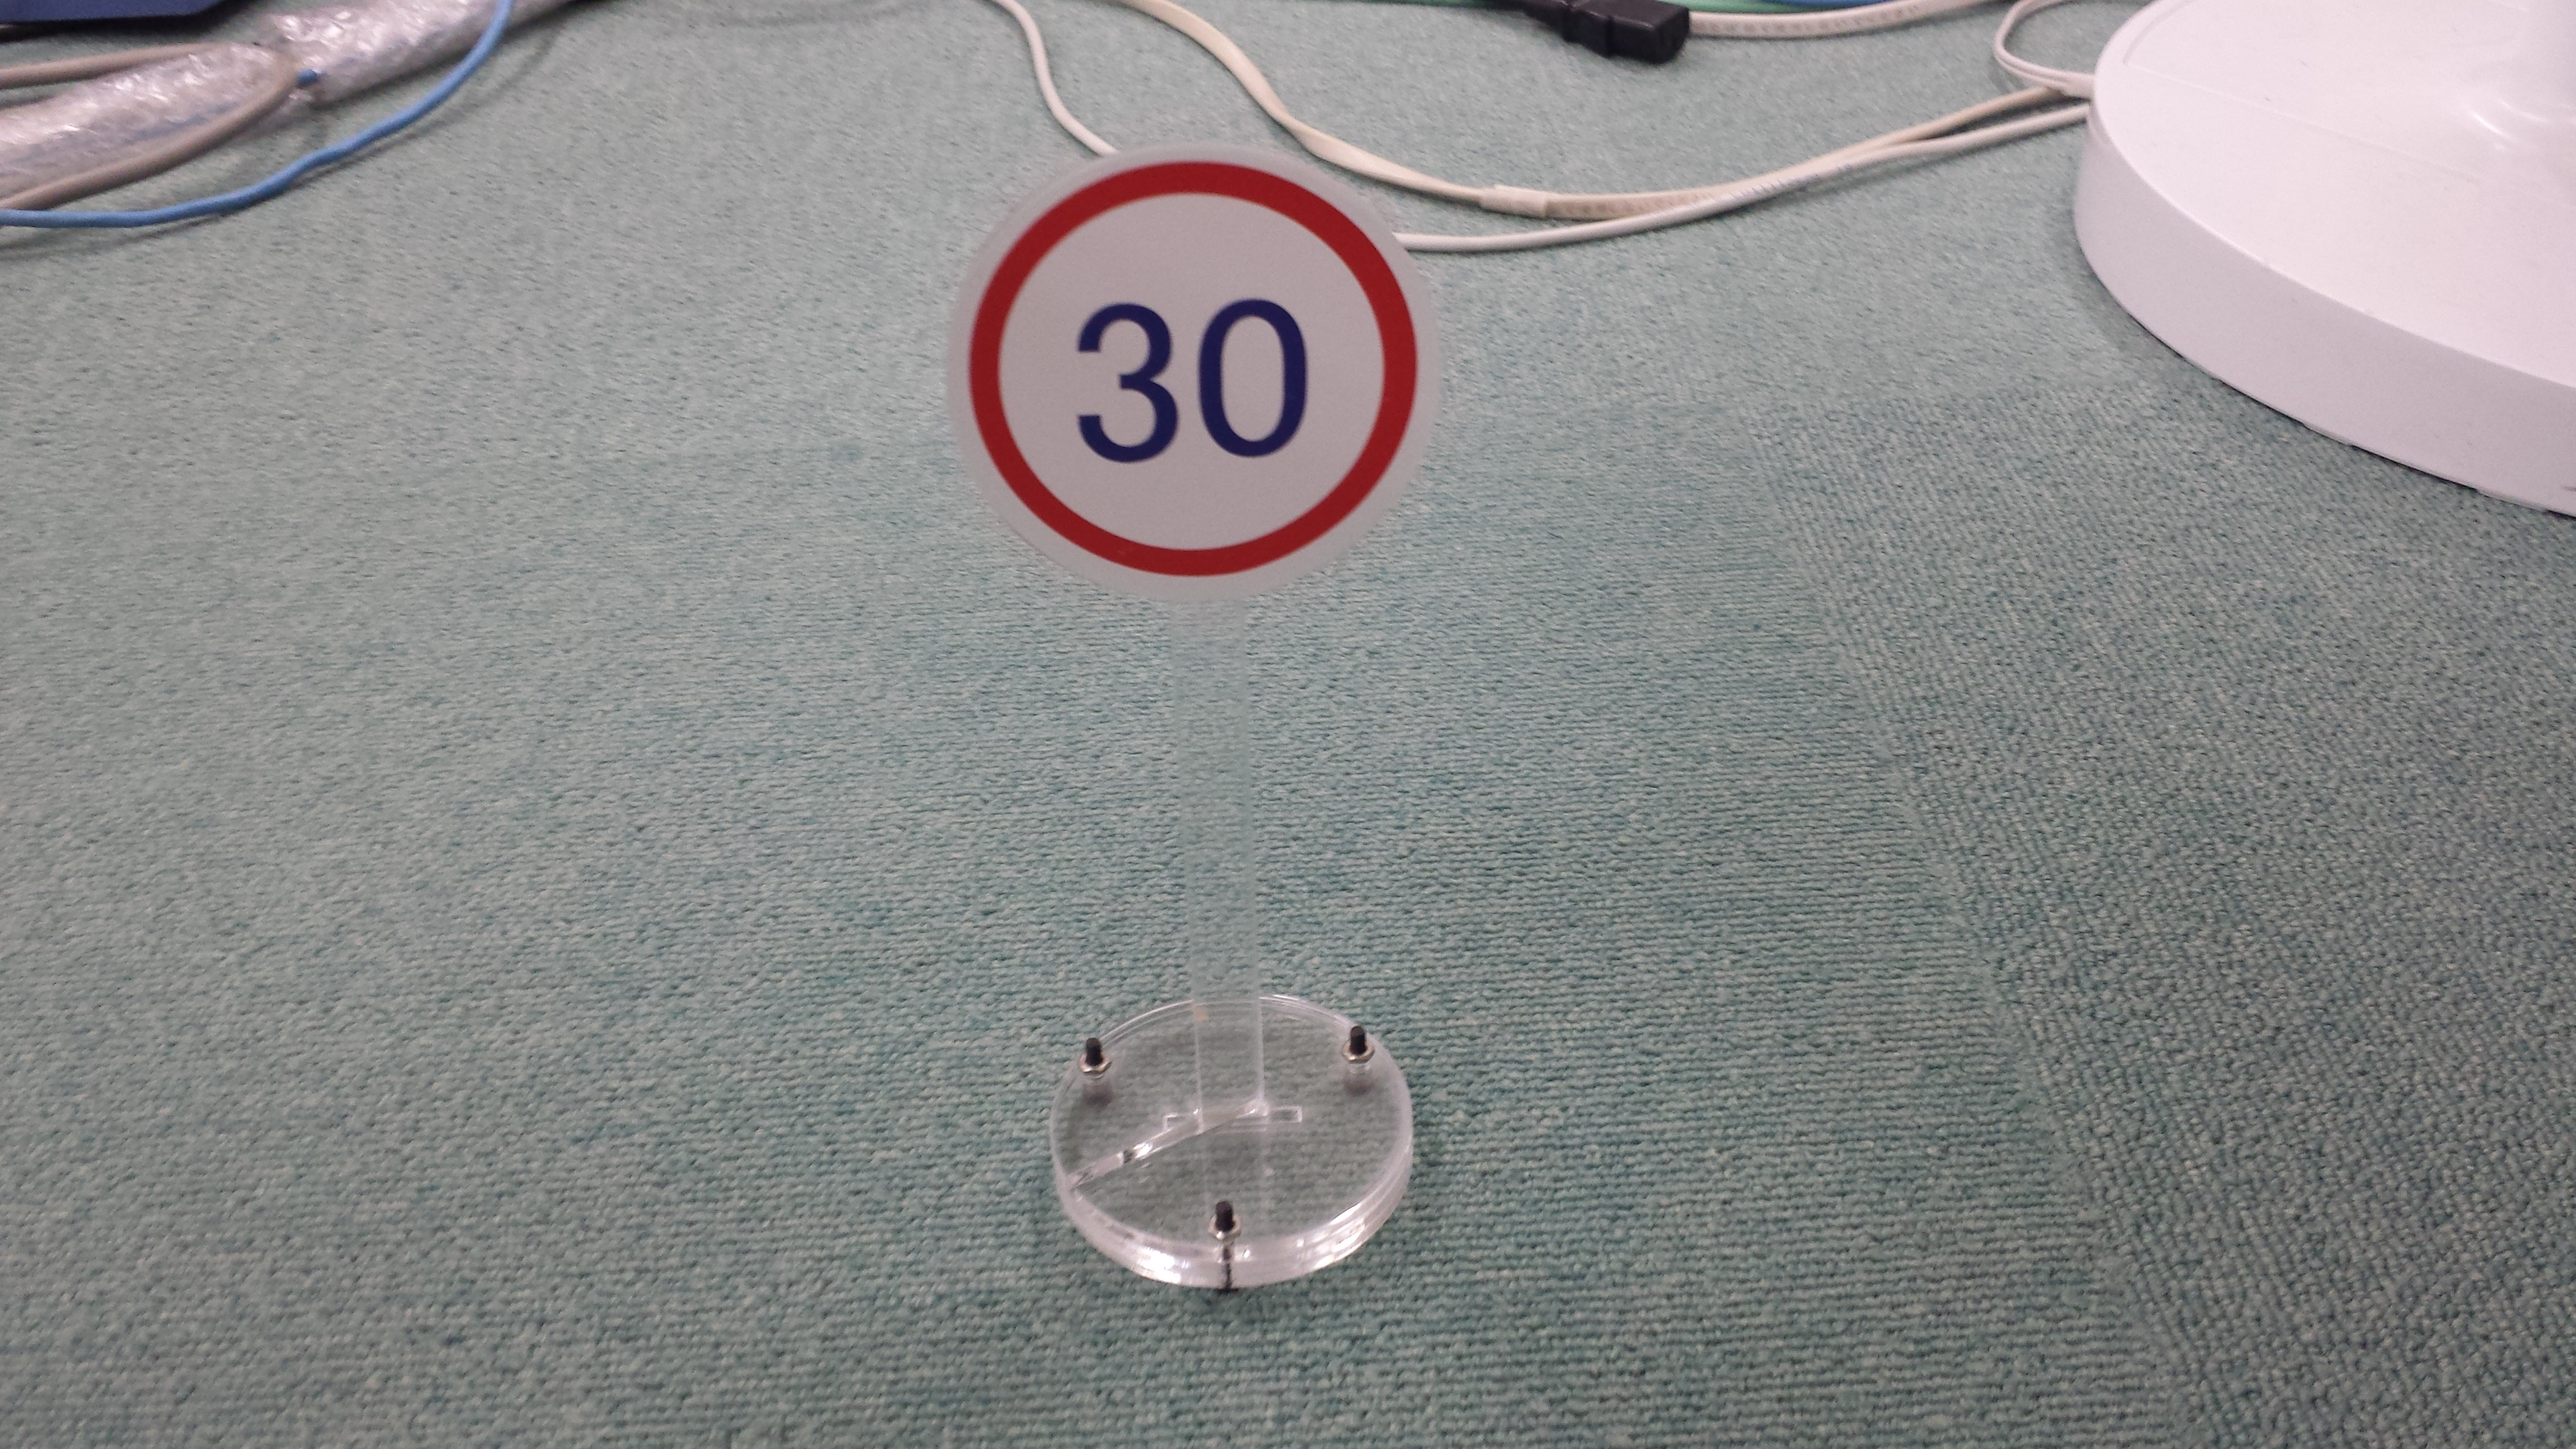speed_30: (955, 147, 1437, 589)
